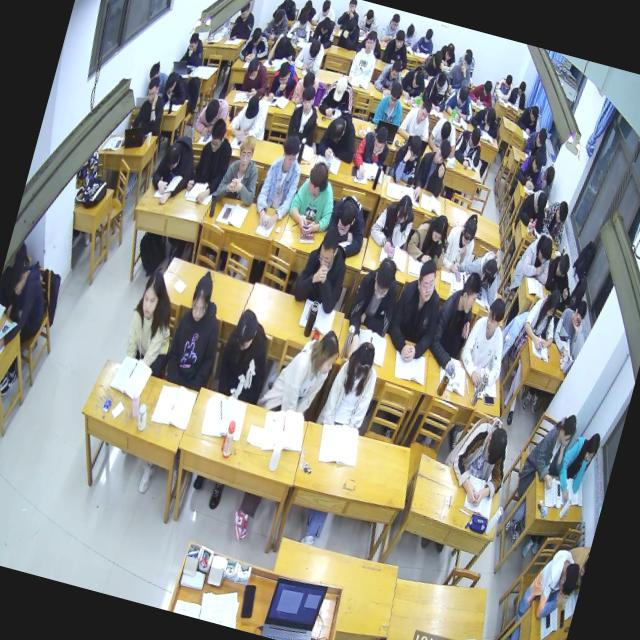bow: (145, 127, 202, 210), (320, 188, 374, 260), (402, 204, 456, 270), (314, 106, 364, 168), (457, 244, 506, 307), (512, 227, 558, 285), (316, 70, 361, 124), (192, 91, 236, 142), (541, 247, 580, 300), (514, 182, 553, 232), (424, 113, 463, 161), (439, 81, 479, 126), (394, 59, 430, 108), (371, 54, 406, 98), (238, 24, 274, 66), (292, 34, 327, 74), (468, 101, 504, 139), (306, 10, 339, 51), (159, 66, 192, 106), (290, 68, 322, 109), (266, 31, 298, 68), (467, 76, 498, 110), (418, 46, 447, 82), (494, 71, 516, 102)
down: (184, 273, 217, 327), (367, 255, 400, 305), (313, 224, 344, 274), (230, 304, 262, 352), (348, 337, 378, 383), (332, 195, 359, 241), (555, 558, 582, 601), (4, 258, 30, 298), (205, 116, 230, 154), (392, 190, 416, 228), (556, 412, 578, 451), (580, 428, 602, 464), (428, 212, 451, 246), (160, 140, 183, 174), (458, 214, 480, 248), (326, 114, 348, 146), (402, 134, 424, 166), (200, 96, 222, 127), (242, 91, 264, 122), (432, 136, 454, 167), (297, 82, 318, 114), (535, 236, 556, 267), (370, 125, 390, 157), (478, 256, 498, 288), (542, 288, 562, 320), (330, 74, 350, 104), (385, 80, 404, 110), (144, 74, 162, 104), (274, 61, 294, 88), (570, 299, 588, 329), (531, 187, 550, 215), (416, 96, 434, 125), (162, 70, 180, 98), (272, 35, 290, 62), (244, 57, 262, 81), (554, 200, 570, 227), (454, 84, 470, 110), (306, 37, 323, 61), (432, 71, 448, 95), (437, 119, 453, 143), (530, 150, 546, 174), (466, 126, 483, 148), (387, 59, 403, 82), (186, 29, 201, 53), (458, 50, 473, 74), (410, 68, 426, 90), (429, 48, 445, 70), (295, 10, 310, 33), (271, 6, 286, 28), (392, 28, 407, 50), (482, 105, 497, 127), (534, 126, 549, 148), (542, 165, 556, 188), (248, 26, 264, 46), (318, 14, 332, 36), (237, 0, 251, 21), (343, 16, 357, 36), (526, 104, 540, 124), (515, 78, 528, 97), (502, 73, 515, 92), (482, 78, 494, 98), (422, 27, 434, 45)
lookup: (136, 268, 167, 322), (412, 254, 444, 304), (232, 133, 258, 174), (362, 28, 378, 54)
sit: (160, 268, 235, 394), (261, 316, 345, 424), (437, 404, 520, 512), (379, 250, 454, 366), (116, 264, 188, 380), (338, 250, 406, 360), (317, 332, 386, 439), (210, 302, 280, 404), (422, 263, 485, 374), (452, 291, 518, 393), (290, 218, 358, 315), (248, 127, 310, 233), (516, 540, 585, 628), (0, 252, 56, 359), (182, 113, 240, 209), (518, 404, 579, 494), (284, 156, 344, 240), (550, 424, 604, 510), (214, 130, 268, 210), (366, 186, 420, 256), (408, 133, 454, 209), (518, 282, 566, 353), (546, 292, 592, 364), (346, 120, 394, 188), (438, 210, 482, 280), (283, 79, 328, 147), (130, 72, 173, 138), (226, 88, 274, 147), (395, 90, 438, 144), (386, 130, 426, 188), (370, 76, 411, 130), (347, 26, 384, 82), (448, 121, 488, 172), (264, 57, 302, 108), (537, 195, 571, 247), (237, 54, 273, 103), (418, 66, 454, 114), (380, 24, 416, 70), (514, 143, 549, 190), (444, 49, 476, 94), (227, 0, 259, 44), (178, 29, 210, 70), (284, 7, 316, 47), (514, 99, 544, 138), (262, 4, 292, 42), (521, 123, 551, 160), (532, 160, 558, 200), (336, 15, 364, 52), (504, 76, 530, 112), (410, 24, 438, 56)
